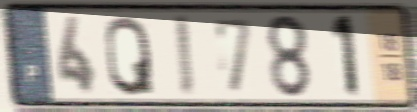1: (329, 12, 362, 101)
4: (55, 13, 98, 98)
7: (214, 16, 254, 96)
8: (264, 13, 313, 100)
I: (171, 11, 197, 100)
Q: (103, 13, 157, 99)
